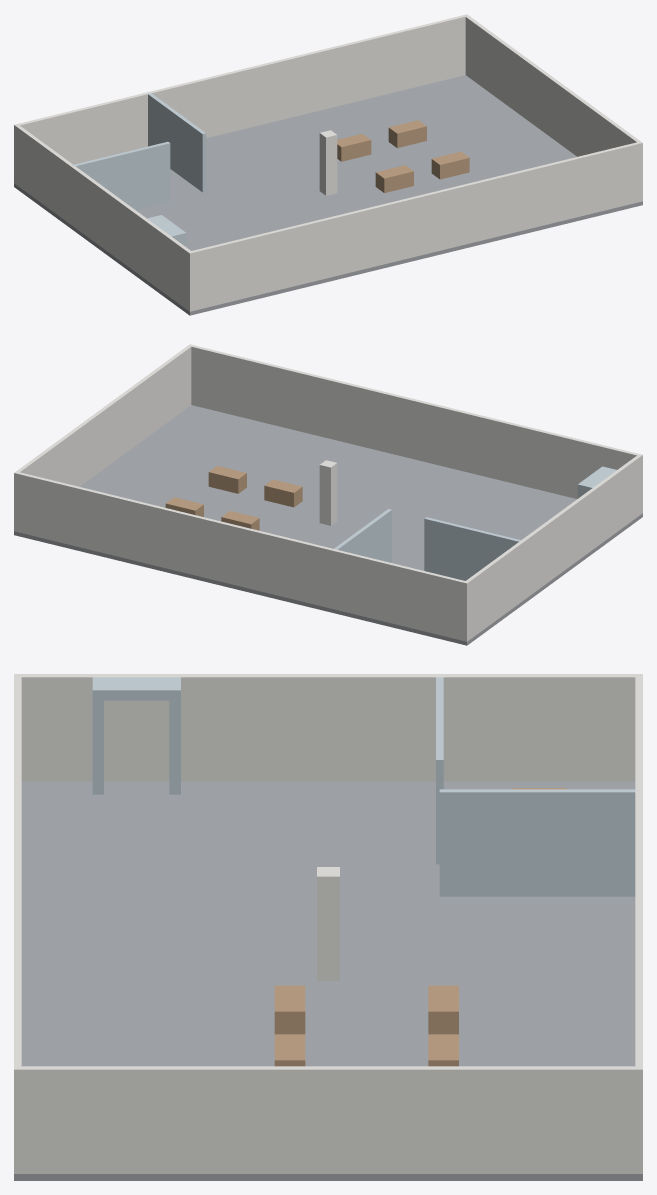
Rendered from office.glb.
3 views of the same model, one above another, from view 1: azimuth 30°, elevation 25°; view 2: azimuth 150°, elevation 25°; view 3: azimuth 270°, elevation 25° (orthographic). The views are drawn at different scales.
Visible parts, largest first — view 1: Floor, Wall_South, Wall_North, Wall_West, Wall_East, Partition_B, Partition_A, Pillar, Desk_2, Desk_3, Desk_4, Desk_1; view 2: Floor, Wall_North, Wall_South, Wall_West, Wall_East, Partition_B, Partition_A, Pillar, Desk_3, Desk_4, Desk_1, Desk_2; view 3: Floor, Wall_East, Wall_West, Partition_A, Wall_South, Wall_North, Pillar, Arch_West_Top, Desk_3, Desk_1, Arch_West_Left, Arch_West_Right (+3 smaller).
Boxes of the visible parts, x1,y1,x2,y2 form: Floor: (14, 75, 642, 315); Wall_South: (187, 141, 642, 311); Wall_North: (14, 14, 468, 184); Wall_West: (14, 124, 192, 311); Wall_East: (464, 15, 642, 201); Partition_B: (72, 141, 170, 209); Partition_A: (148, 93, 206, 192); Pillar: (319, 130, 337, 195); Desk_2: (388, 120, 426, 147); Desk_3: (375, 165, 413, 192); Desk_4: (431, 151, 469, 179); Desk_1: (337, 134, 371, 161); Floor: (14, 405, 642, 645); Wall_North: (14, 471, 469, 641); Wall_South: (188, 344, 642, 514); Wall_West: (464, 454, 642, 640); Wall_East: (14, 344, 191, 503); Partition_B: (424, 517, 520, 580); Partition_A: (333, 509, 391, 562); Pillar: (319, 460, 337, 525); Desk_3: (264, 479, 302, 507); Desk_4: (208, 466, 246, 493); Desk_1: (221, 511, 259, 530); Desk_2: (165, 497, 203, 516); Floor: (14, 781, 642, 1180); Wall_East: (14, 1066, 642, 1173); Wall_West: (14, 674, 642, 781); Partition_A: (439, 789, 638, 896); Wall_South: (14, 674, 21, 1173); Wall_North: (635, 674, 642, 1173); Pillar: (317, 867, 339, 980); Arch_West_Top: (92, 677, 180, 700); Desk_3: (274, 985, 305, 1034); Desk_1: (428, 985, 458, 1034); Arch_West_Left: (169, 677, 180, 794); Arch_West_Right: (92, 677, 103, 794).
Bounding box in the file's own units: 24.4 × 3.2 × 16.4.
